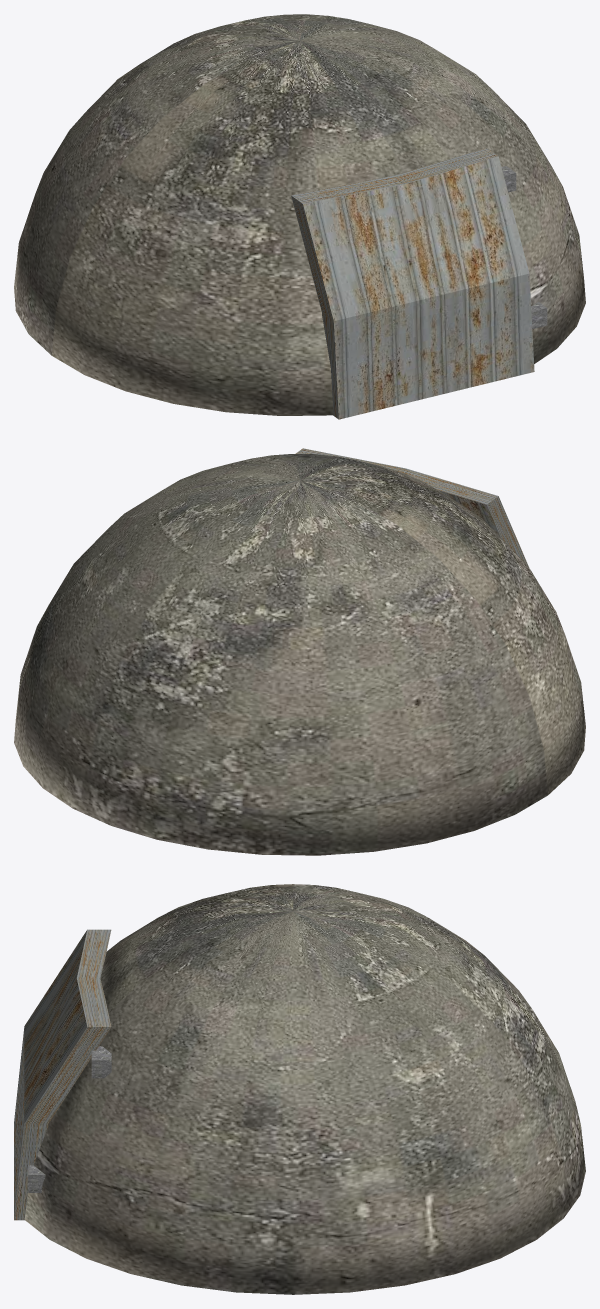
File: Bunker2.fbx
3 views of the same model, one above another, from view 1: azimuth 30°, elevation 25°; view 2: azimuth 150°, elevation 25°; view 3: azimuth 270°, elevation 25° (orthographic). The views are drawn at different scales.
Parts seen in each view (by area): view 1: Sphere, Cube; view 2: Sphere, Cube; view 3: Sphere, Cube, Cube.002.
Boxes of the visible parts, left/top/right/bottom form: Sphere: left=14, top=14, right=585, bottom=415; Cube: left=291, top=147, right=534, bottom=419; Sphere: left=14, top=454, right=585, bottom=855; Cube: left=295, top=448, right=529, bottom=568; Sphere: left=24, top=884, right=585, bottom=1294; Cube: left=14, top=929, right=111, bottom=1220; Cube.002: left=91, top=1046, right=111, bottom=1078.
Size of the model in its own units: 1855 by 910 by 1812.
